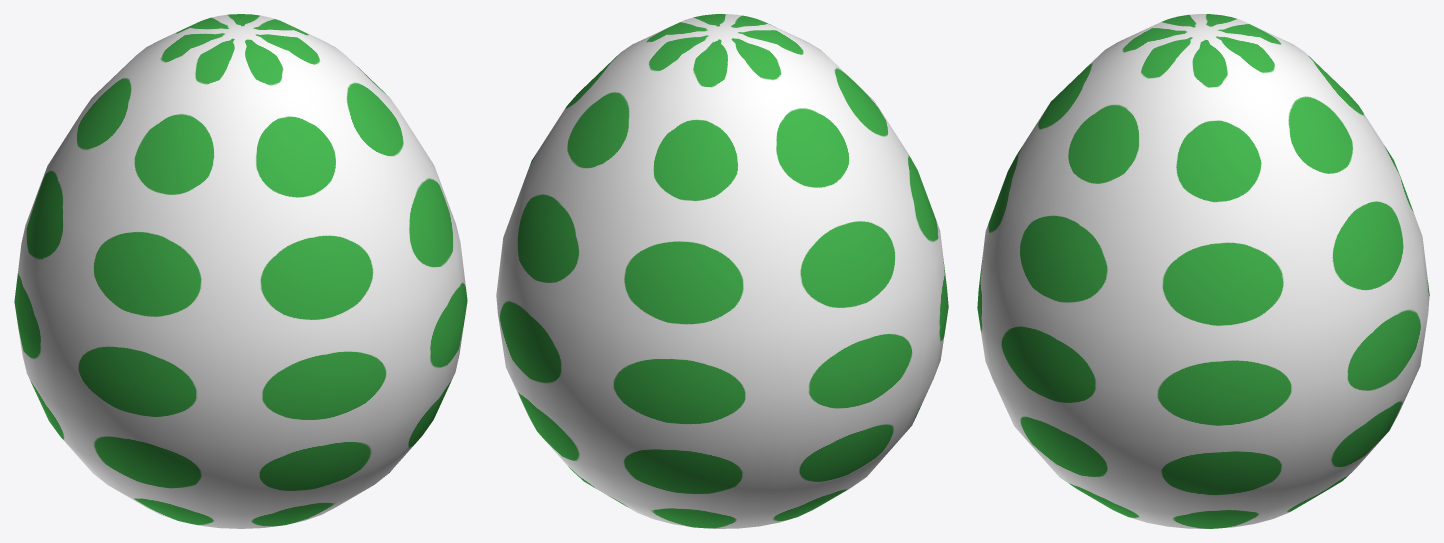
File: Green Polka Egg.gltf
3 renders of one model, left to right at view 1: azimuth 30°, elevation 25°; view 2: azimuth 150°, elevation 25°; view 3: azimuth 270°, elevation 25°, orthographic.
Visible parts, largest first — view 1: EGG; view 2: EGG; view 3: EGG.
Part boxes in pixels (left/top/right/bottom): EGG: left=14, top=14, right=467, bottom=528; EGG: left=496, top=14, right=948, bottom=528; EGG: left=977, top=14, right=1429, bottom=528.
Size of the model in its own units: 1.44 by 1.67 by 1.44.
1 material, 1 textured.
